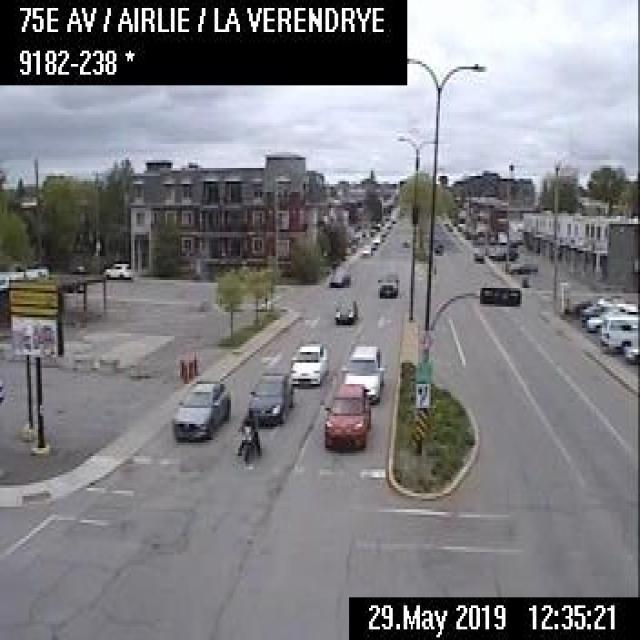construction: (191, 352, 198, 374), (186, 353, 192, 378), (182, 357, 188, 382)
vehicle: (169, 373, 231, 443), (245, 365, 292, 429), (325, 382, 370, 448), (339, 339, 385, 402), (289, 339, 328, 386), (234, 405, 262, 467), (598, 310, 636, 350), (587, 302, 638, 331), (331, 296, 356, 323), (376, 267, 398, 296), (104, 259, 129, 280), (507, 258, 538, 274), (488, 244, 516, 257), (328, 270, 348, 286), (358, 243, 371, 255), (472, 250, 484, 262), (368, 240, 376, 249), (371, 234, 379, 242)
